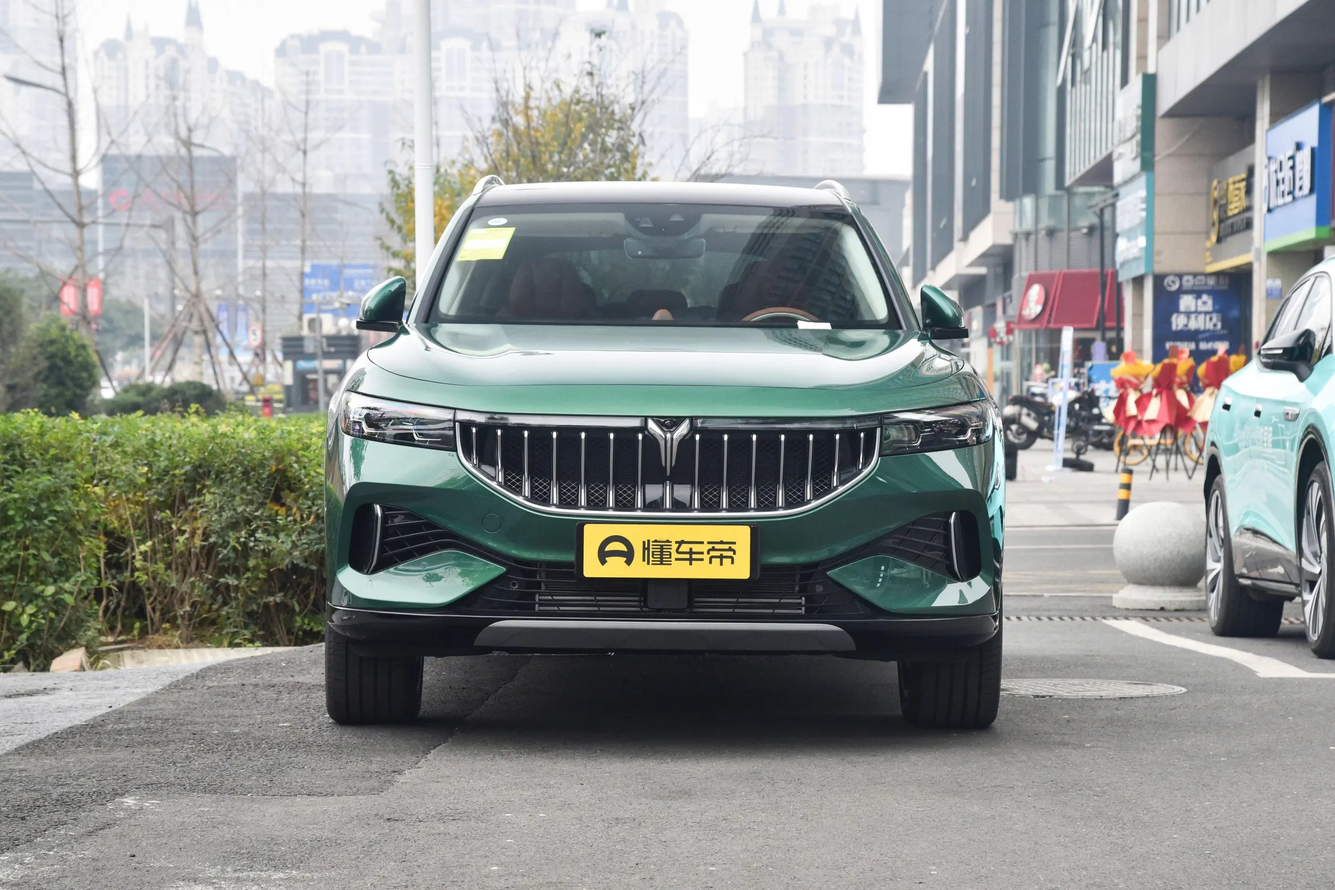VOYAH: (648, 418, 689, 474)
